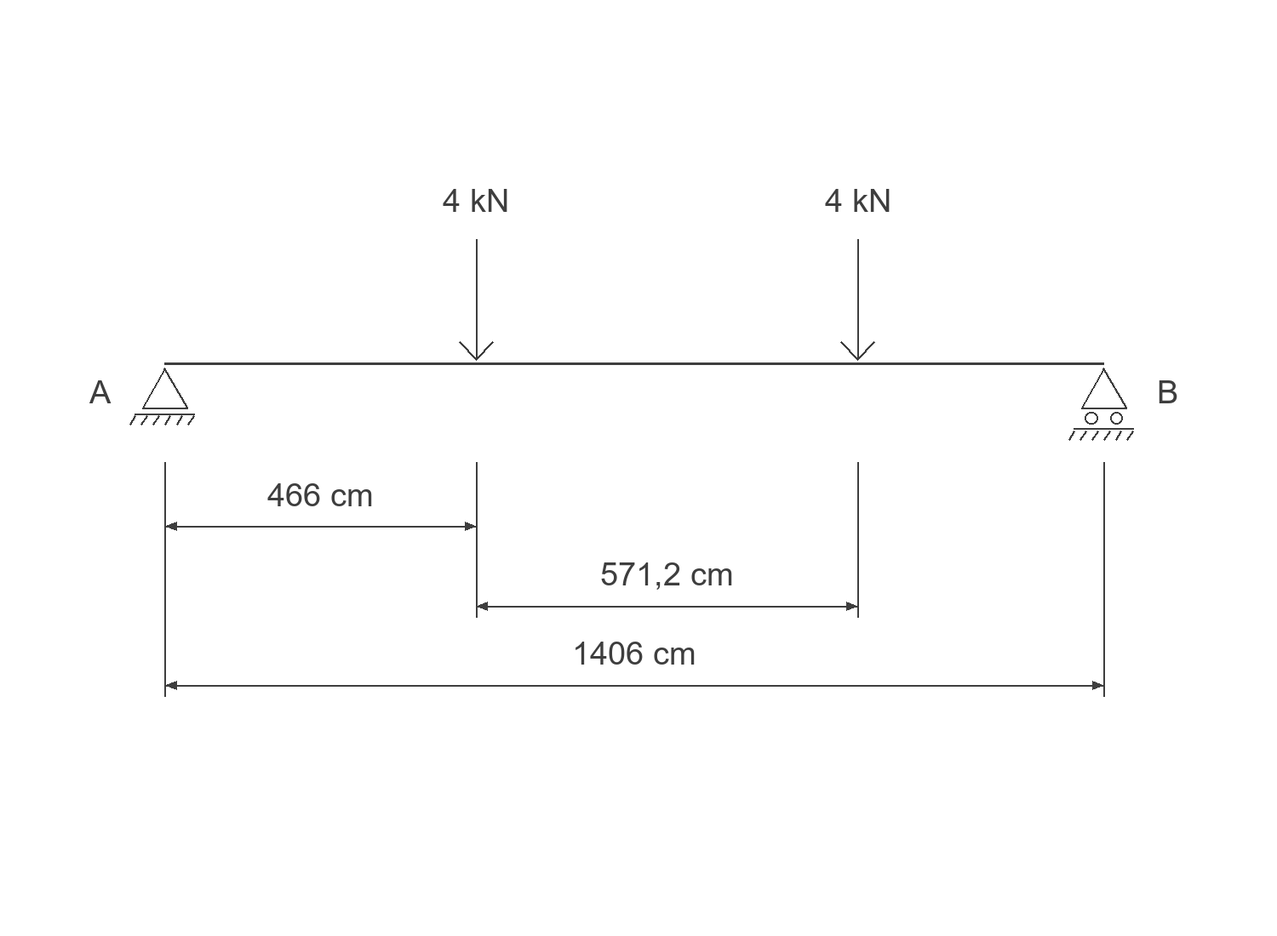pin_support: (129, 368, 195, 425)
point_load: (459, 239, 494, 361), (840, 239, 875, 361)
roller_support: (1068, 368, 1134, 441)
